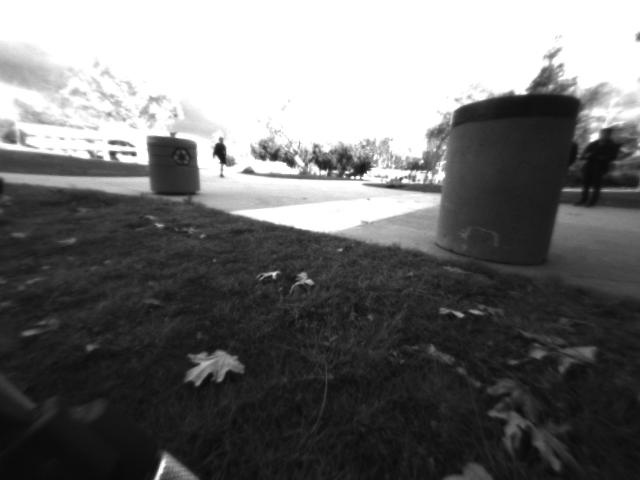trashcan: (425, 80, 593, 291), (134, 124, 210, 205)
